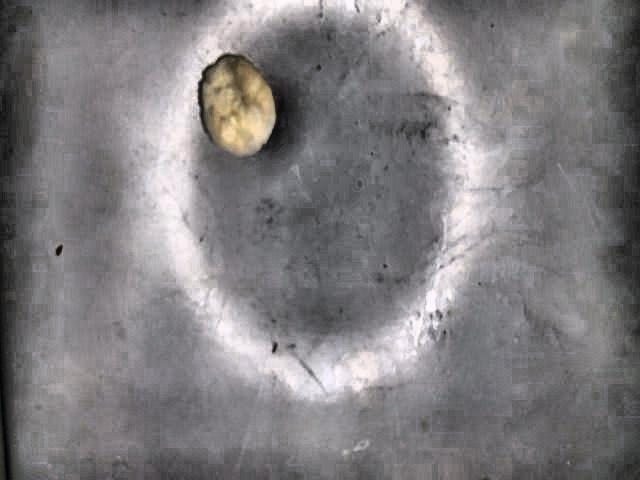Almennt: (199, 53, 276, 155)
